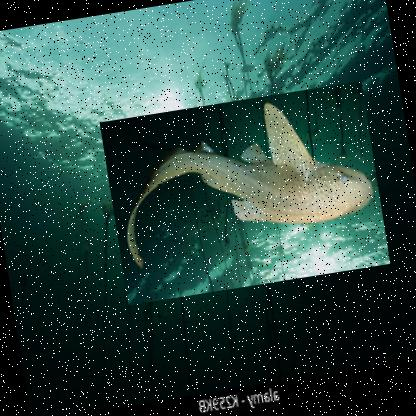zebra_shark: (98, 81, 390, 306)
